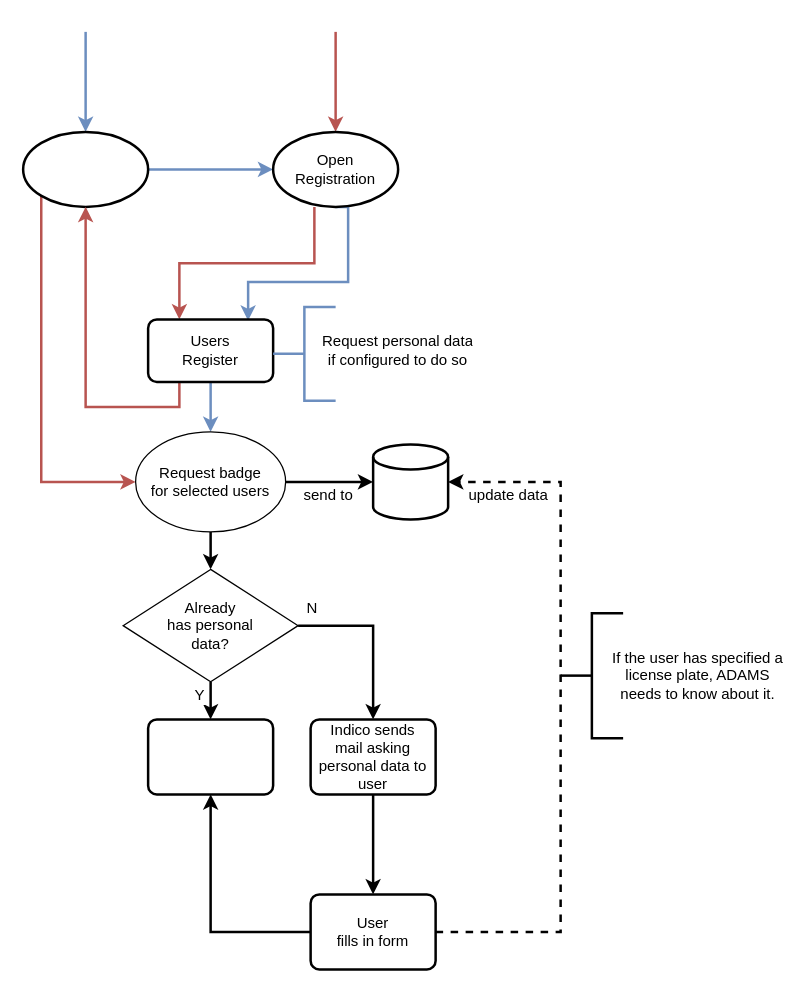
This 806x991 diagram has some shape labels left out. Here are the shapes that lost their labels. From the top down, the box of each, then its label:
(21, 130, 149, 208): Create Request
(371, 442, 449, 520): ADAMS
(146, 718, 274, 795): Indico sends badge to user
